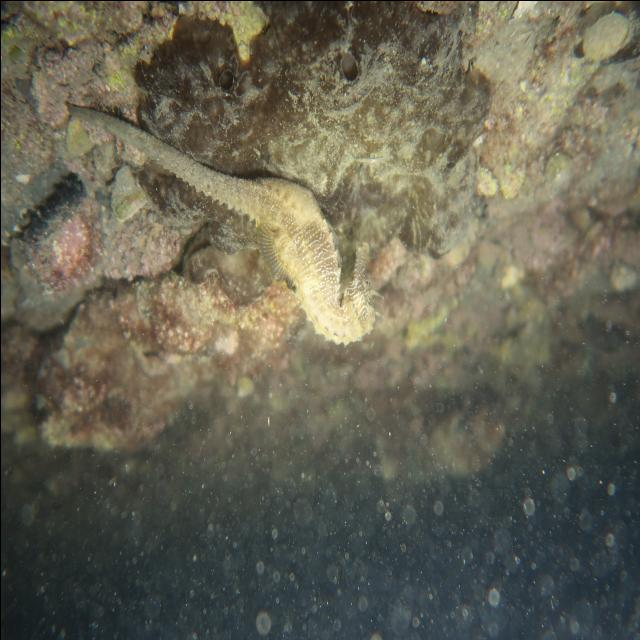Guttu: (336, 239, 378, 350)
